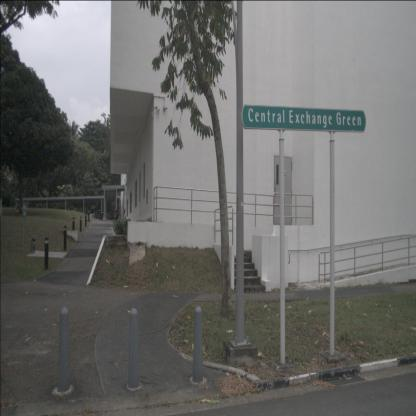human-pedestrian-adult: (113, 210, 119, 223)
